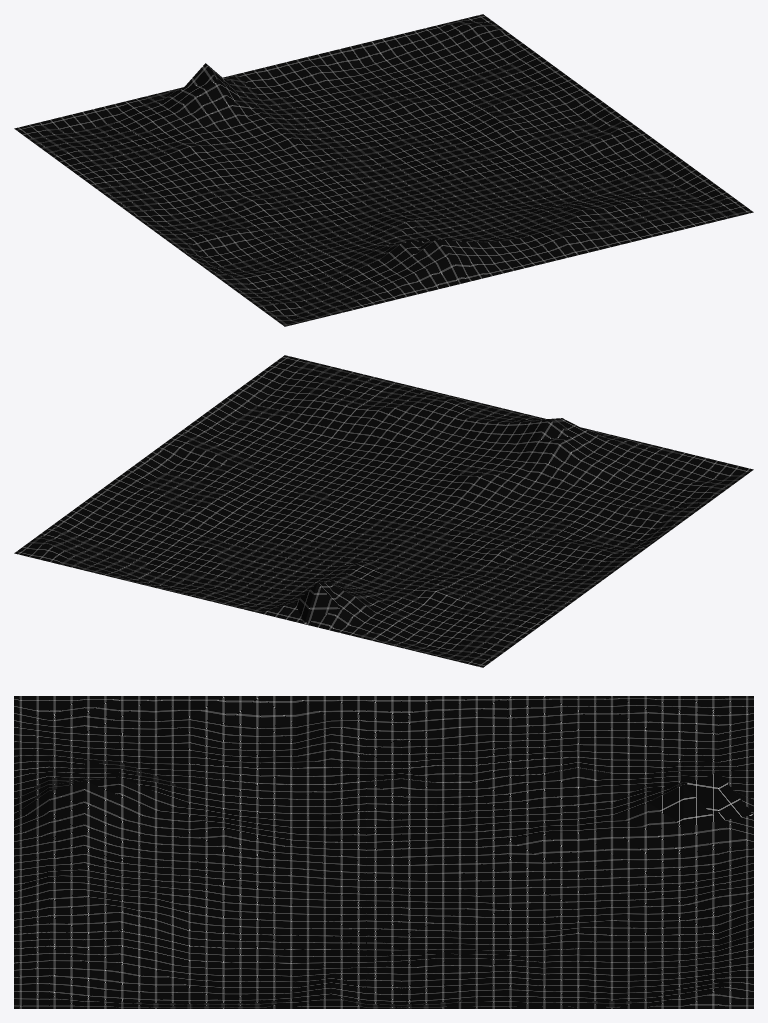
The model's file is terrain.fbx.
3 renders of one model, top to bottom at view 1: azimuth 30°, elevation 25°; view 2: azimuth 150°, elevation 25°; view 3: azimuth 270°, elevation 25°, orthographic. The views are drawn at different scales.
Visible parts, largest first — view 1: terrain; view 2: terrain; view 3: terrain.
Part boxes in pixels (x1=…): terrain: x1=14, y1=14, x2=753, y2=326; terrain: x1=14, y1=355, x2=753, y2=667; terrain: x1=14, y1=696, x2=753, y2=1008.
Size of the model in its own units: 1000 by 91.92 by 1000.
1 material, 1 textured.
